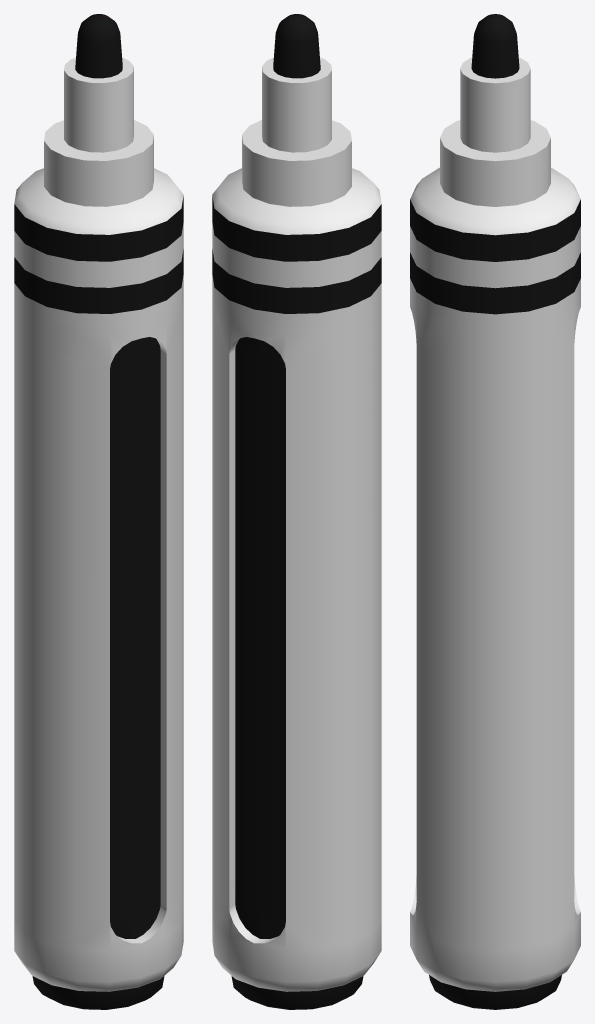
File: Default_Pen.fbx
3 renders of one model, left to right at view 1: azimuth 30°, elevation 25°; view 2: azimuth 150°, elevation 25°; view 3: azimuth 270°, elevation 25°, orthographic.
Visible parts, largest first — view 1: Default_Pen; view 2: Default_Pen; view 3: Default_Pen.
Part boxes in pixels (box(x1,y1,x2,y2)): Default_Pen: box(14, 14, 183, 1009); Default_Pen: box(212, 14, 381, 1009); Default_Pen: box(410, 14, 580, 1009).
Size of the model in its own units: 17.61 by 110 by 17.61.
